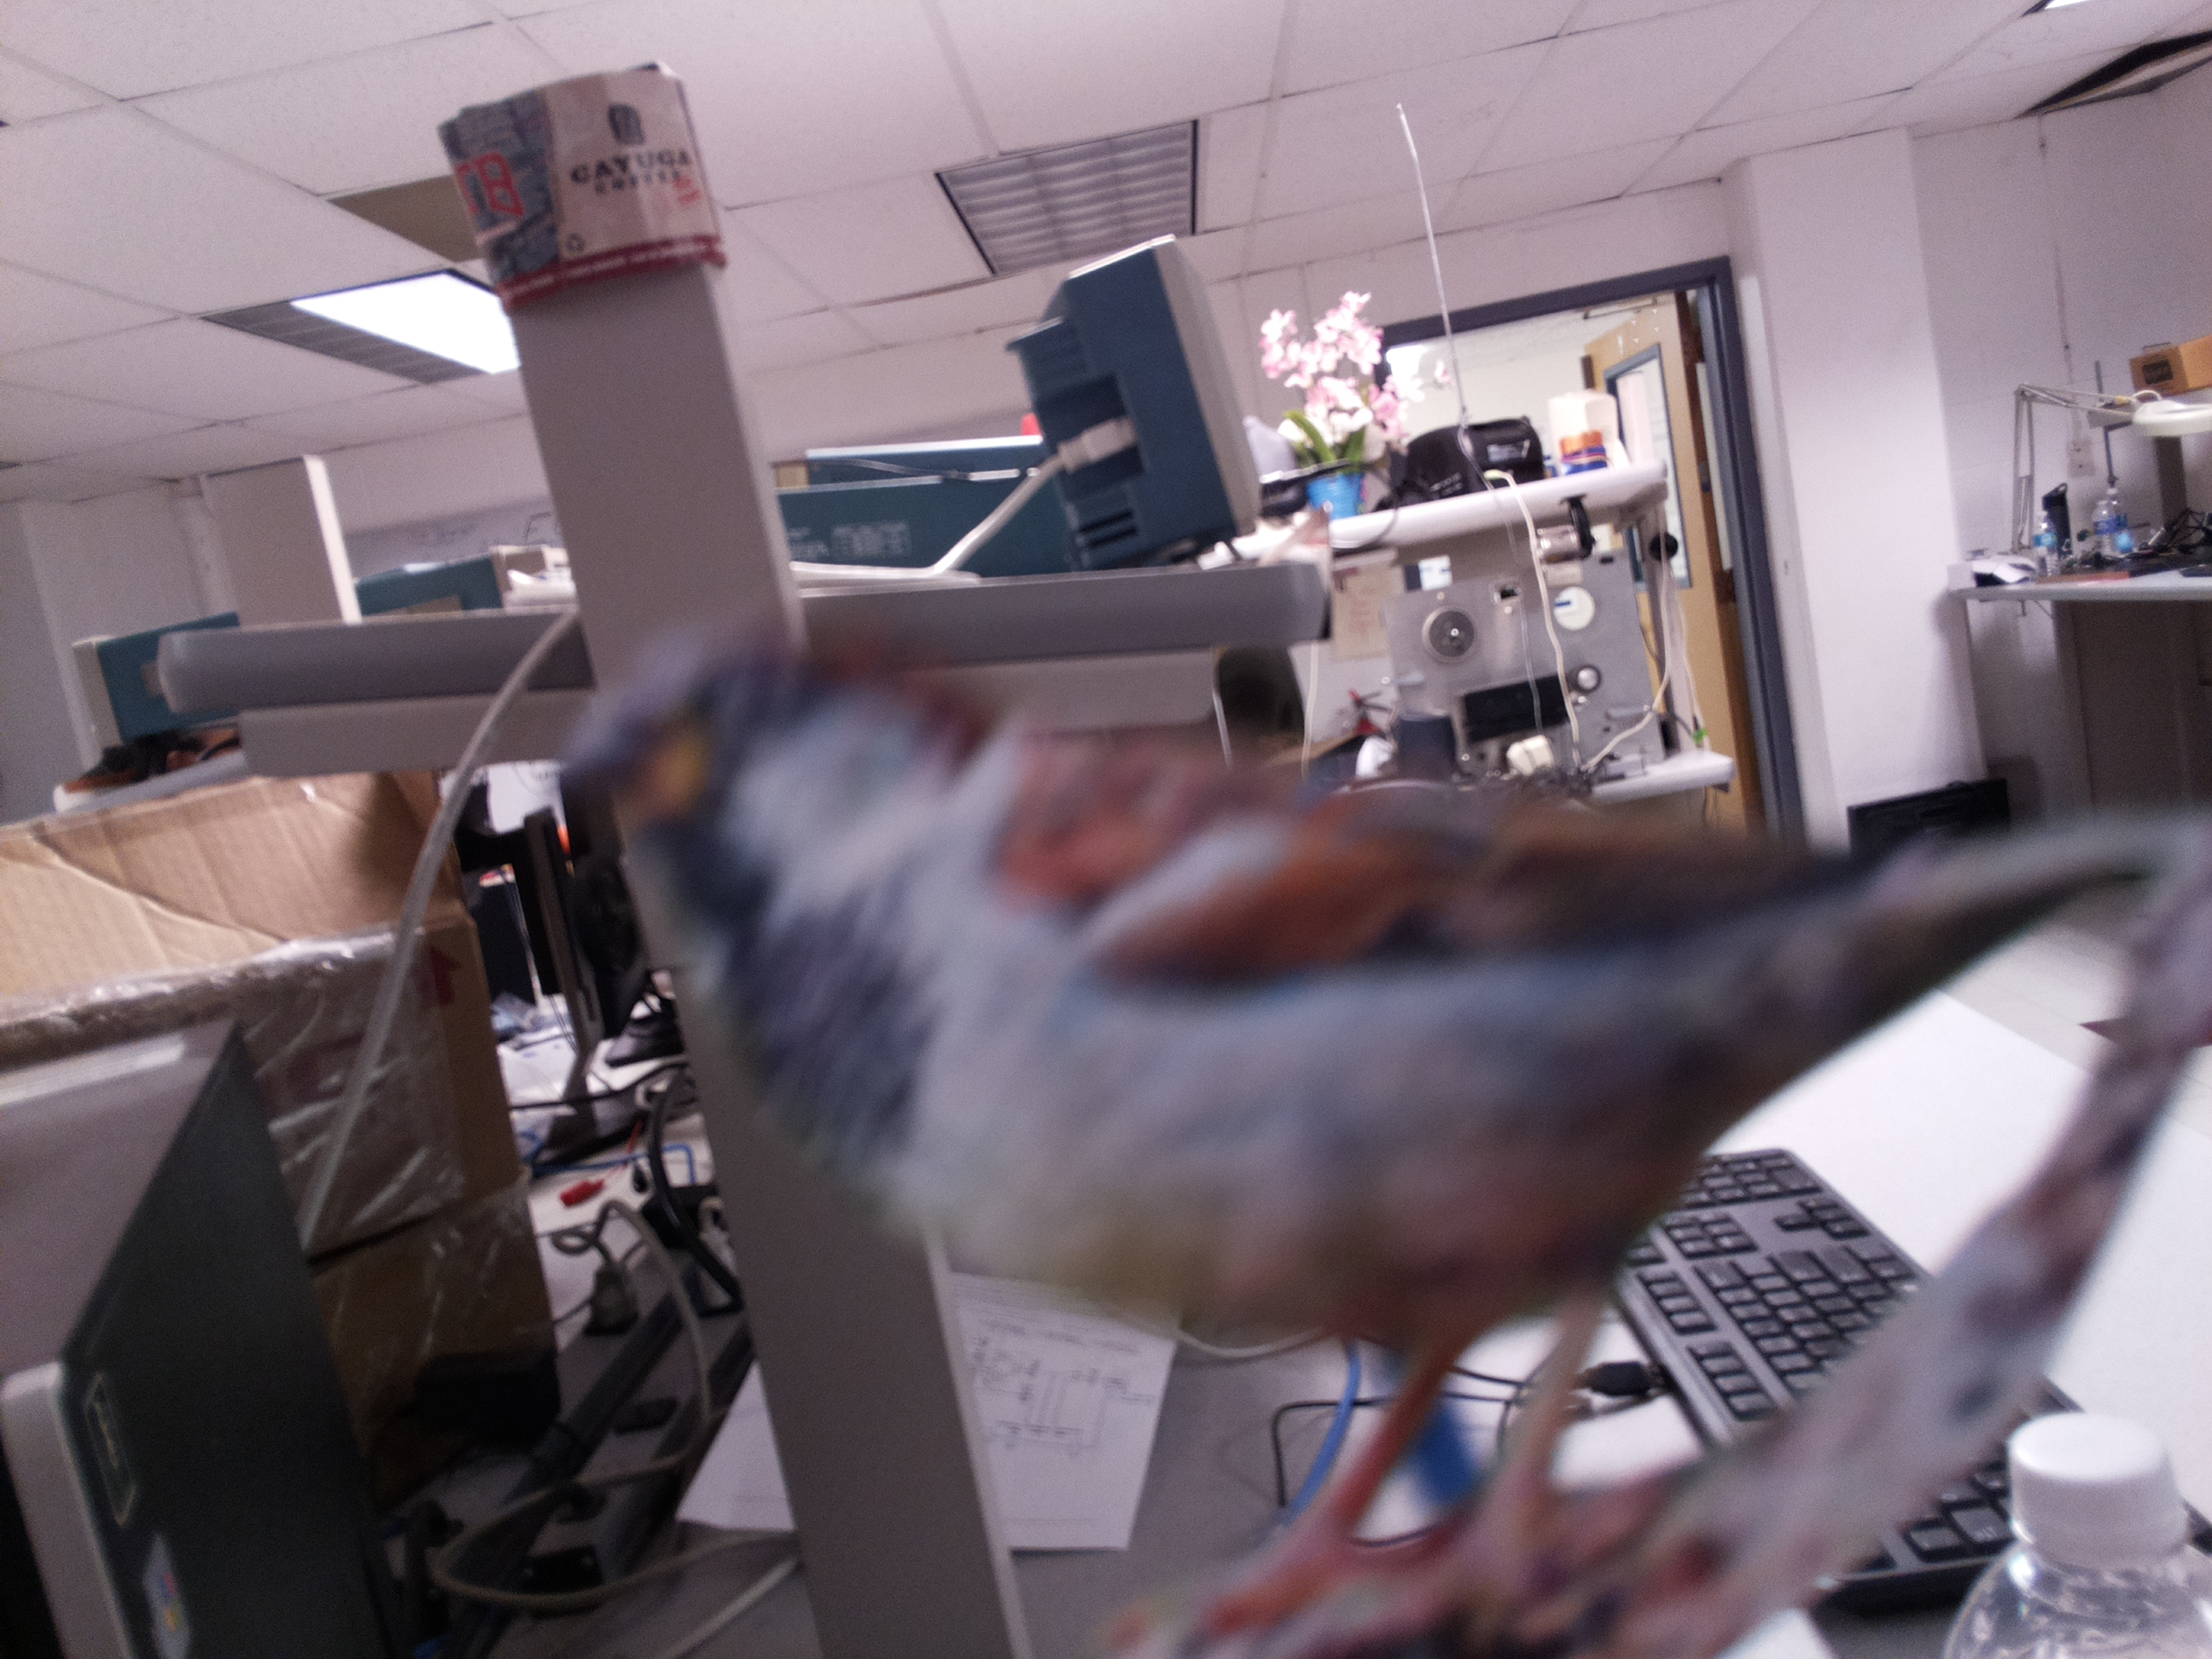bird: (554, 610, 2174, 1615)
